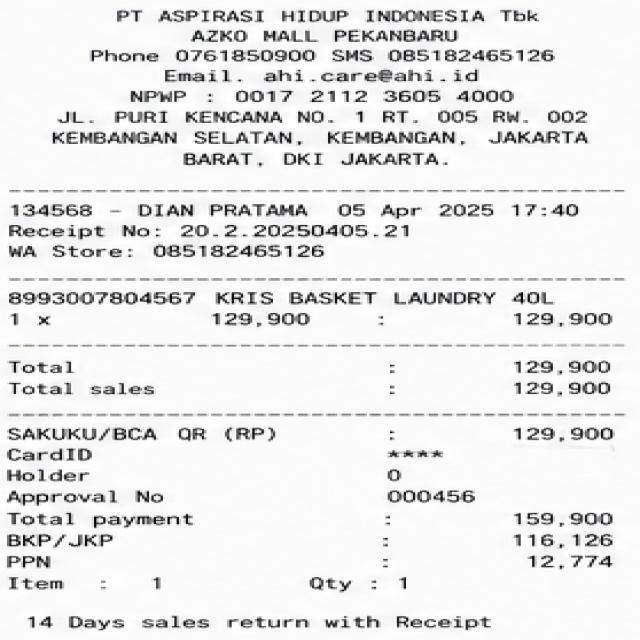date: (325, 200, 598, 220)
store: (109, 0, 561, 50)
total: (6, 511, 631, 527)
